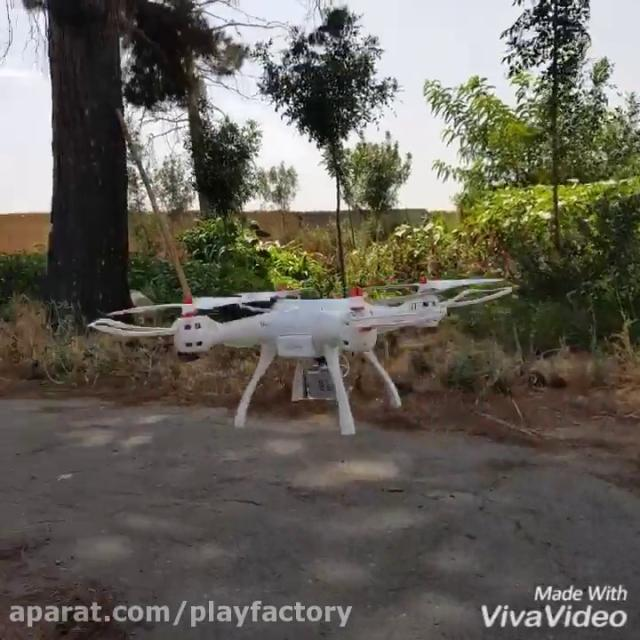drone: (88, 268, 514, 437)
